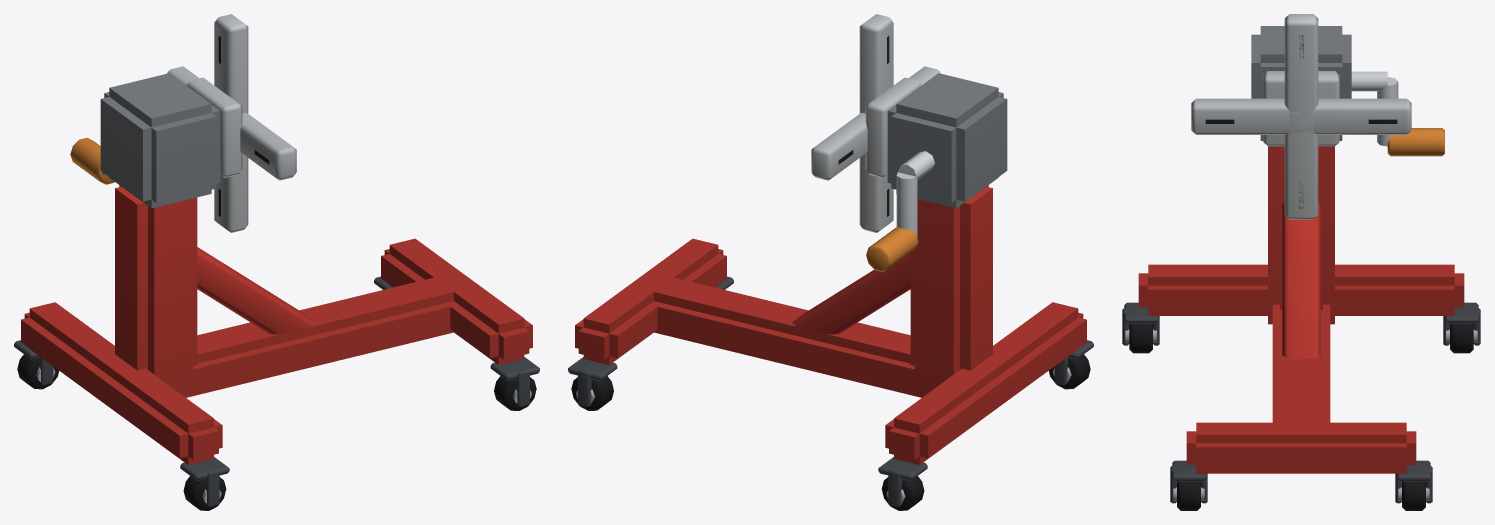
File: SM_EngineStand_01.glb
The picture shows the model from 3 angles, left to right: view 1: azimuth 30°, elevation 25°; view 2: azimuth 150°, elevation 25°; view 3: azimuth 270°, elevation 25°; orthographic projection. The views are drawn at different scales.
Parts seen in each view (by area): view 1: SM_EngineStand_01; view 2: SM_EngineStand_01; view 3: SM_EngineStand_01.
Part boxes in pixels (box(x1,y1,x2,y2)): SM_EngineStand_01: box(14, 14, 539, 510); SM_EngineStand_01: box(568, 14, 1093, 510); SM_EngineStand_01: box(1122, 14, 1480, 510).
Size of the model in its own units: 0.88 by 0.89 by 0.748.
1 material, 1 textured.
